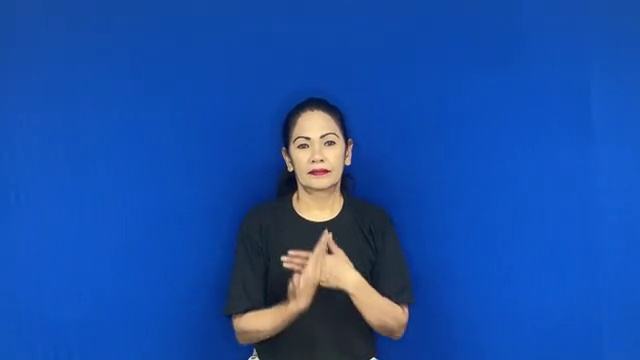bread: (272, 223, 361, 319)
